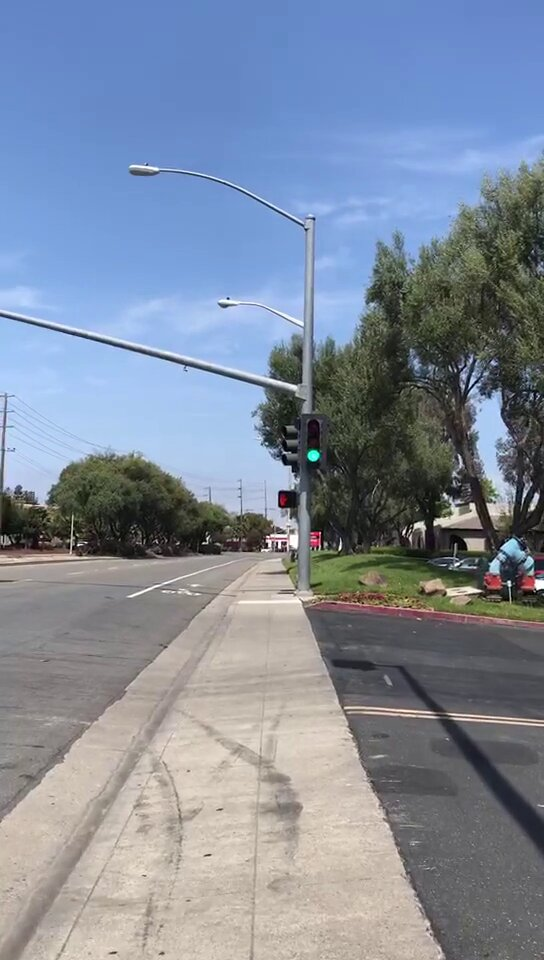green_light: (302, 412, 328, 467)
